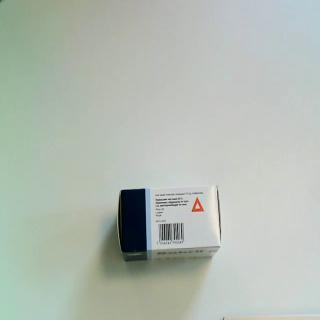sobril25mg: (117, 184, 225, 266)
